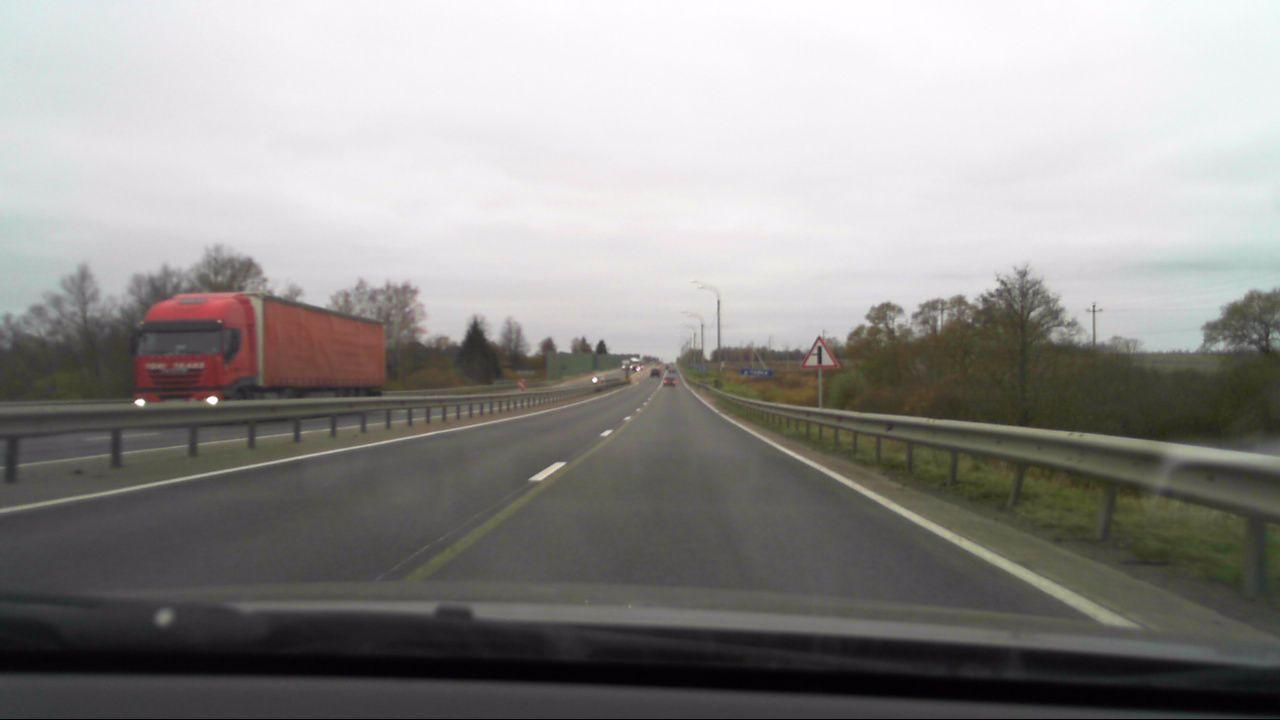2_3_3: (802, 335, 838, 370)
